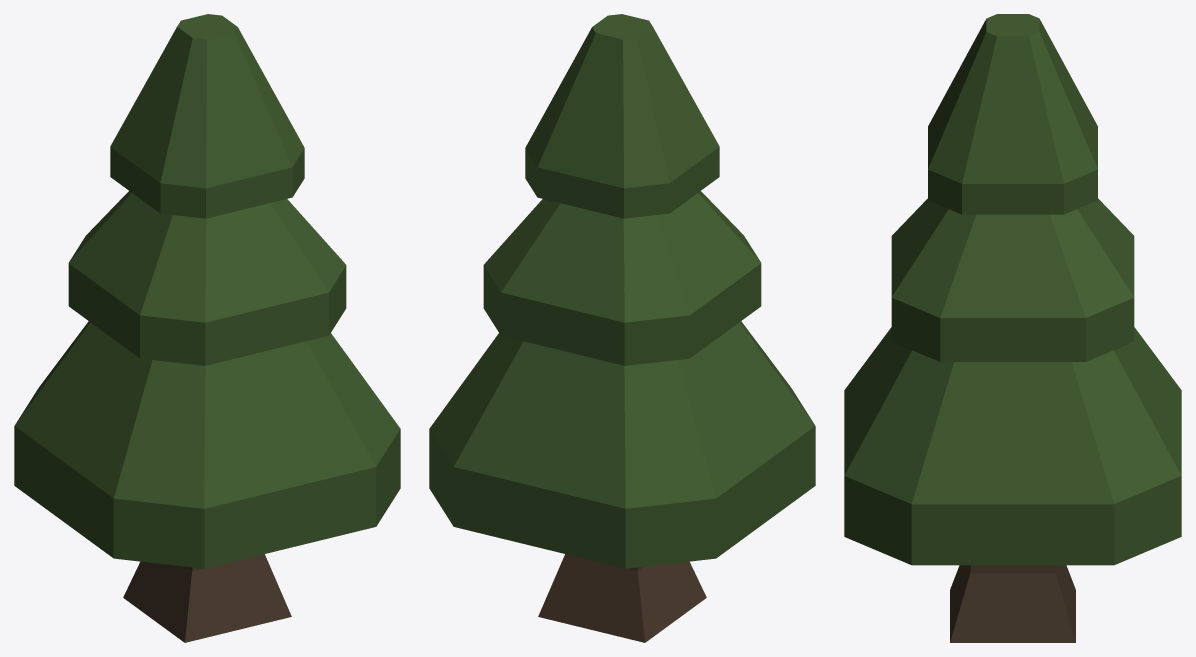
The model's file is tree_pine_small.glb.
3 renders of one model, left to right at view 1: azimuth 30°, elevation 25°; view 2: azimuth 150°, elevation 25°; view 3: azimuth 270°, elevation 25°, orthographic.
Parts seen in each view (by area): view 1: tree_pineSmallA; view 2: tree_pineSmallA; view 3: tree_pineSmallA.
Boxes of the visible parts, left/top/right/bottom form: tree_pineSmallA: left=14, top=14, right=400, bottom=642; tree_pineSmallA: left=429, top=14, right=815, bottom=642; tree_pineSmallA: left=844, top=14, right=1181, bottom=642.
Size of the model in its own units: 3.1 by 6 by 3.1.
